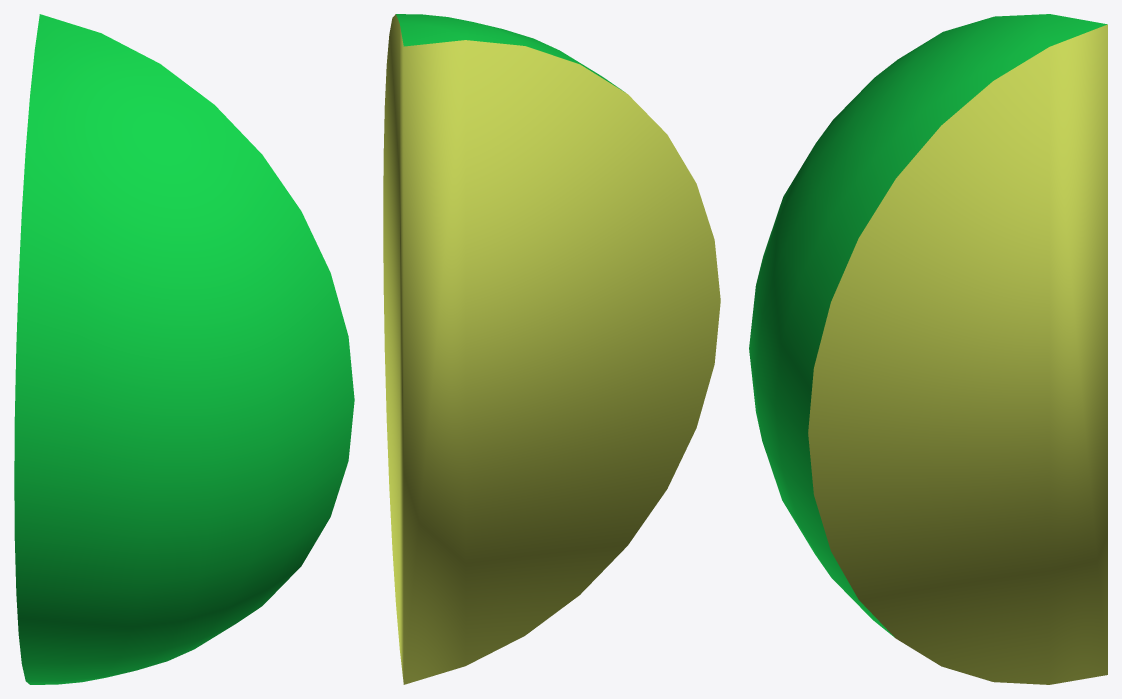
File: lima.fbx
3 views of the same model, side by side, from view 1: azimuth 30°, elevation 25°; view 2: azimuth 150°, elevation 25°; view 3: azimuth 270°, elevation 25° (orthographic).
Visible parts, largest first — view 1: Lima; view 2: Lima; view 3: Lima.
Boxes of the visible parts, left/top/right/bottom form: Lima: left=14, top=14, right=354, bottom=684; Lima: left=383, top=14, right=720, bottom=684; Lima: left=749, top=14, right=1107, bottom=684.
Size of the model in its own units: 111 by 200 by 100.
